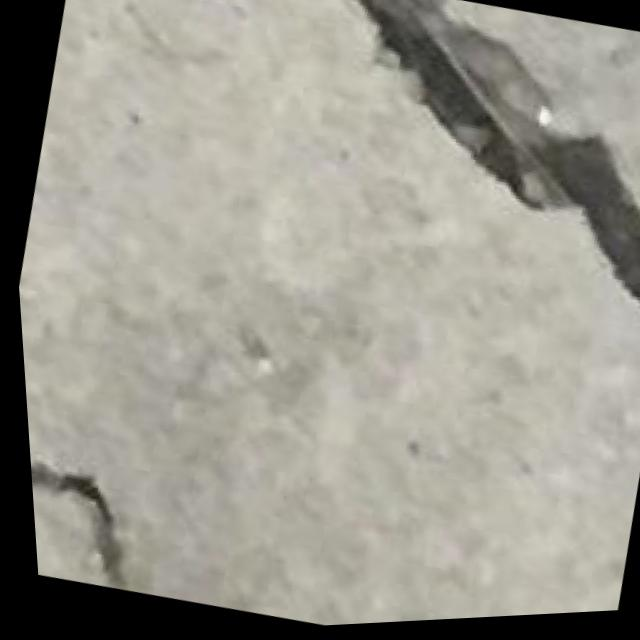Crack: (180, 0, 640, 389)
